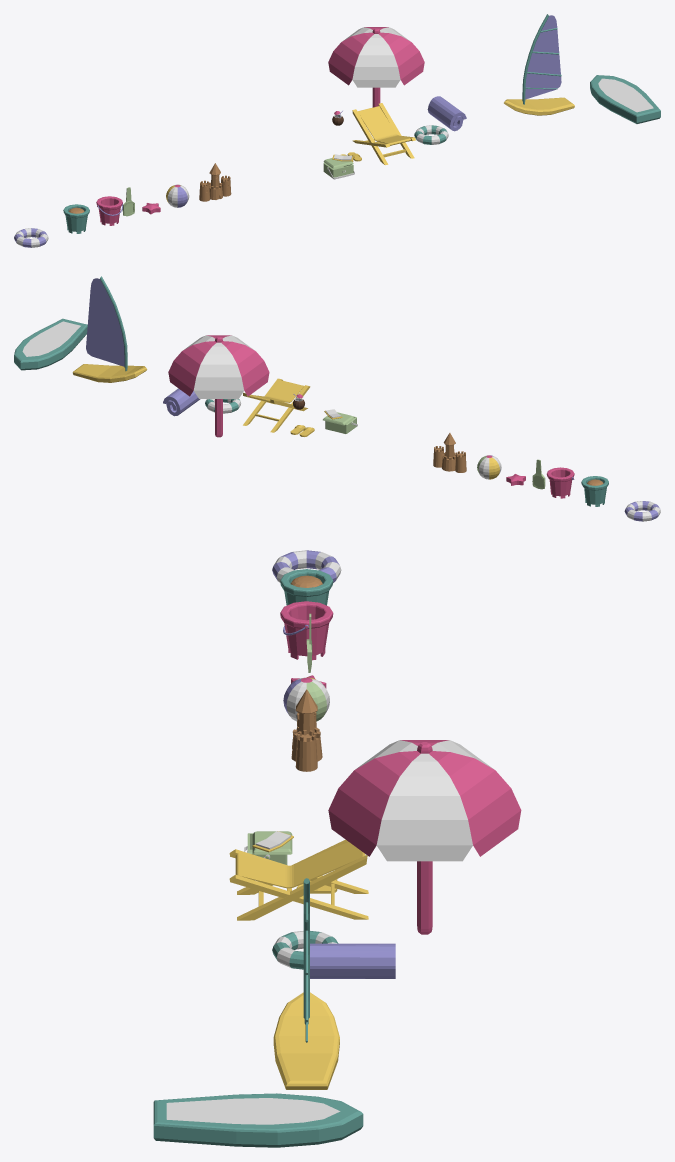
The model's file is SummerPack.fbx.
The picture shows the model from 3 angles, top to bottom: view 1: azimuth 30°, elevation 25°; view 2: azimuth 150°, elevation 25°; view 3: azimuth 270°, elevation 25°; orthographic projection. The views are drawn at different scales.
Parts seen in each view (by area): view 1: semsiye, wind surf, ocean surf board, plaj sandalyesi, wind surf board, ortu, kumdan kale, sand box, sand box1, Can Simiti, Can Simiti 2, ball; view 2: semsiye, wind surf, ocean surf board, plaj sandalyesi, wind surf board, kumdan kale, sand box1, sand box, Can Simiti, ortu, ball; view 3: semsiye, ocean surf board, plaj sandalyesi, wind surf board, ortu, sand box1, kumdan kale, sand box, Can Simiti, Can Simiti 2, ball, wind surf.
Boxes of the visible parts, x1,y1,x2,y2 form: semsiye: [328, 27, 424, 107]; wind surf: [522, 14, 561, 104]; ocean surf board: [590, 75, 660, 123]; plaj sandalyesi: [352, 103, 415, 165]; wind surf board: [504, 97, 574, 115]; ortu: [427, 96, 466, 131]; kumdan kale: [199, 163, 231, 201]; sand box: [63, 204, 89, 233]; sand box1: [96, 196, 122, 225]; Can Simiti: [14, 228, 48, 247]; Can Simiti 2: [414, 125, 448, 144]; ball: [166, 184, 189, 207]; semsiye: [168, 335, 269, 437]; wind surf: [86, 276, 127, 371]; ocean surf board: [14, 318, 87, 370]; plaj sandalyesi: [243, 378, 310, 432]; wind surf board: [72, 364, 147, 382]; kumdan kale: [433, 433, 466, 472]; sand box1: [546, 467, 574, 498]; sand box: [581, 476, 608, 506]; Can Simiti: [624, 501, 660, 521]; ortu: [163, 388, 200, 416]; ball: [477, 455, 501, 479]; semsiye: [328, 740, 521, 934]; ocean surf board: [153, 1093, 363, 1147]; plaj sandalyesi: [229, 839, 368, 920]; wind surf board: [273, 992, 339, 1089]; ortu: [310, 943, 395, 978]; sand box1: [280, 601, 333, 660]; kumdan kale: [291, 689, 322, 771]; sand box: [280, 569, 333, 605]; Can Simiti: [272, 550, 341, 582]; Can Simiti 2: [272, 931, 338, 969]; ball: [283, 677, 329, 721]; wind surf: [303, 878, 309, 1042].
Size of the model in its own units: 2717 by 434 by 705.
